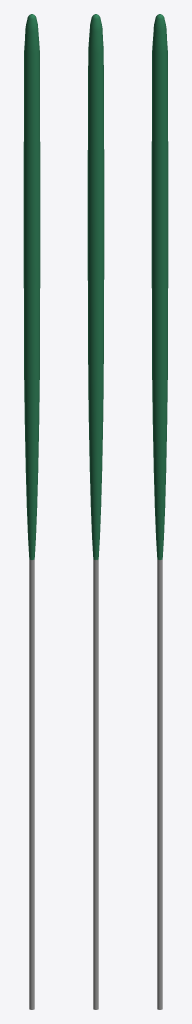
The model's file is Sparkler firecrackers.fbx.
3 renders of one model, left to right at view 1: azimuth 90°, elevation 25°; view 2: azimuth 150°, elevation 25°; view 3: azimuth 270°, elevation 25°, orthographic.
Visible parts, largest first — view 1: pSphere1, pCylinder1; view 2: pSphere1, pCylinder1; view 3: pSphere1, pCylinder1.
Part boxes in pixels (<box>): pSphere1: <box>23,14,40,559</box>; pCylinder1: <box>29,559,34,1009</box>; pSphere1: <box>87,14,104,559</box>; pCylinder1: <box>93,559,98,1009</box>; pSphere1: <box>151,14,168,559</box>; pCylinder1: <box>157,559,162,1009</box>.
Size of the model in its own units: 0.1593 by 10.45 by 0.1593.
